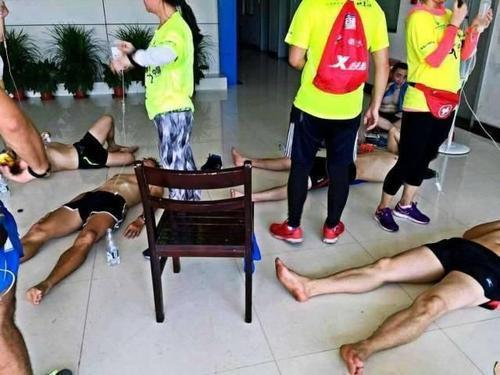Fall-Detected: (216, 122, 389, 213)
